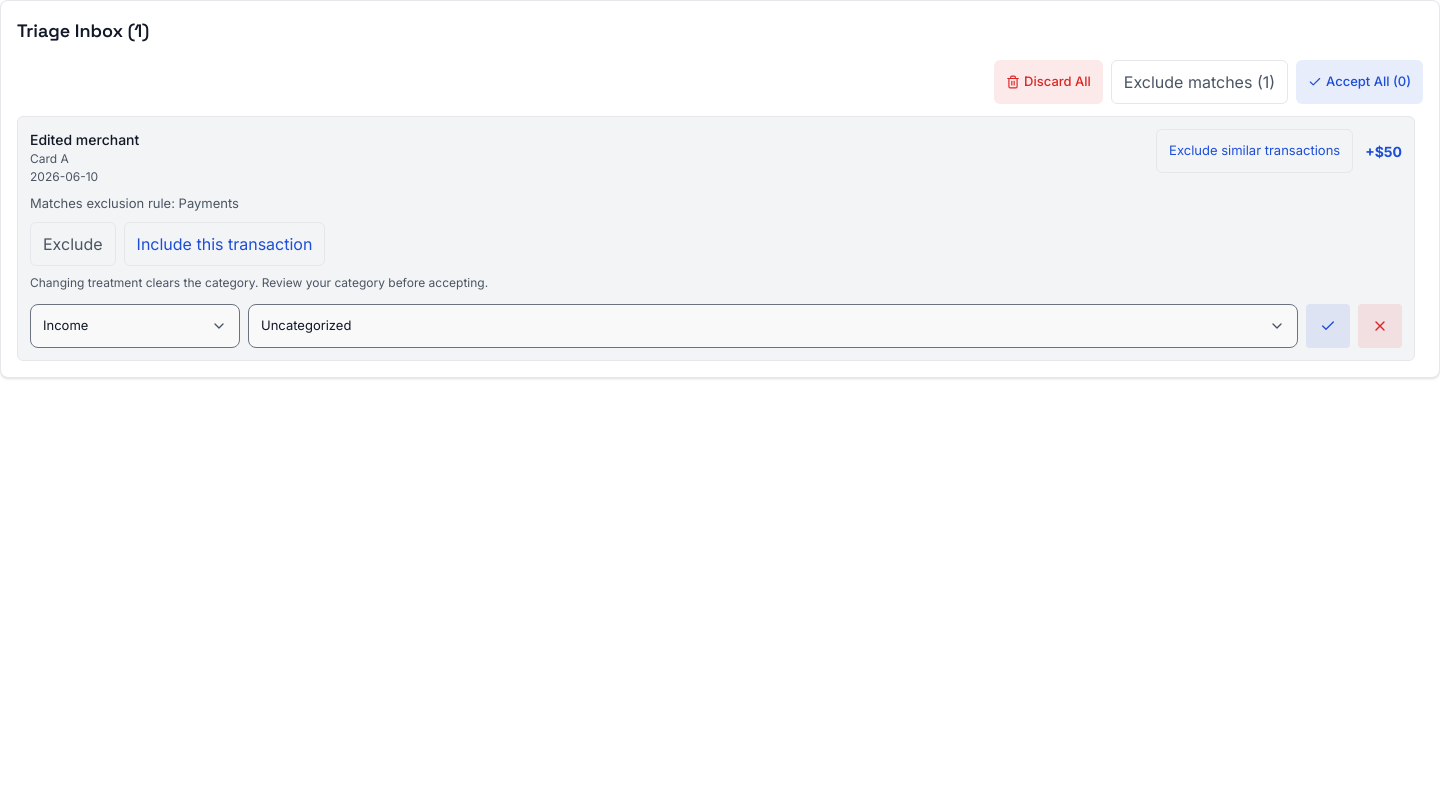
Test case: seeds a similar-transactions rule from the original bank description
Click the button "Exclude similar transactions" at (1255, 151), box [1156,129,1353,173]
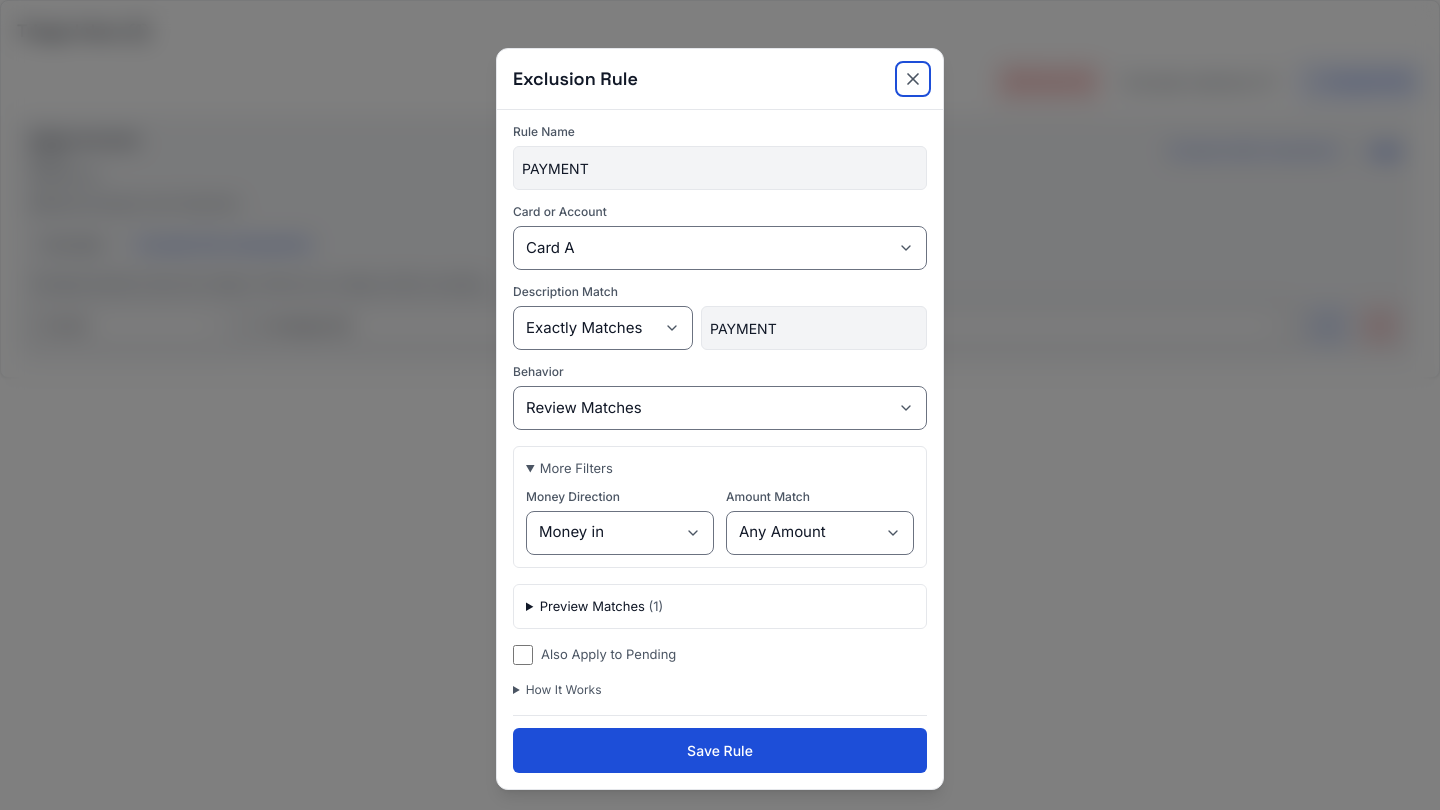
Expected: the field named "Bank Description" holds "PAYMENT", [701,306,927,350]
